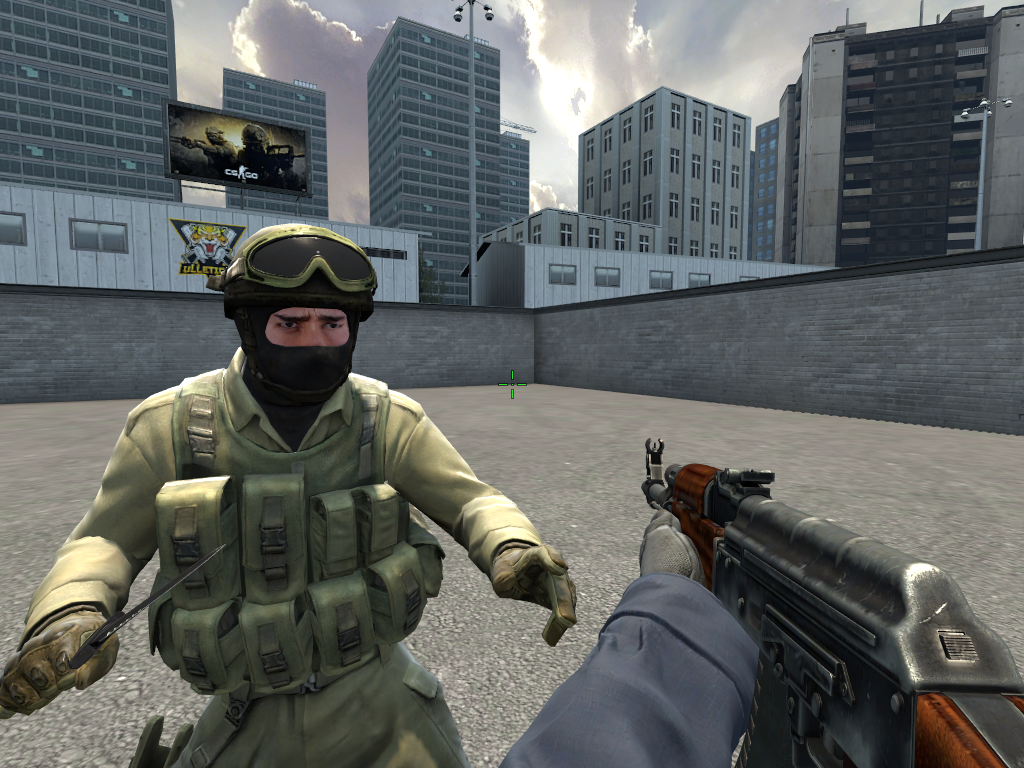ct head: (219, 224, 380, 404)
